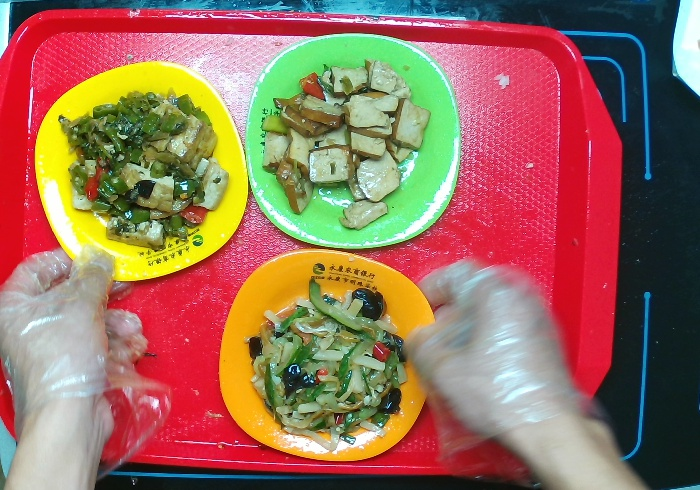YKMZ-Huang_Se_Fang_Die: (29, 57, 254, 284)
YKMZ-Ju_Se_Fang_Die: (211, 244, 445, 472)
YKMZ-Lv_Se_Fang_Die: (242, 30, 467, 254)
